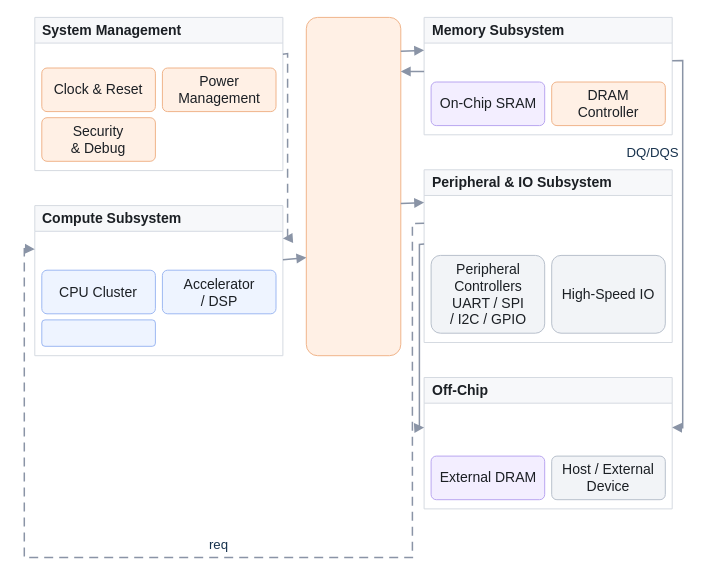
This 709x584 diagram has some shape labels left out. Each missing label, with the centre of its shape:
"DMA Engine" goes at point 98,332.
"On-Chip Interconnect" goes at point 353,186.
